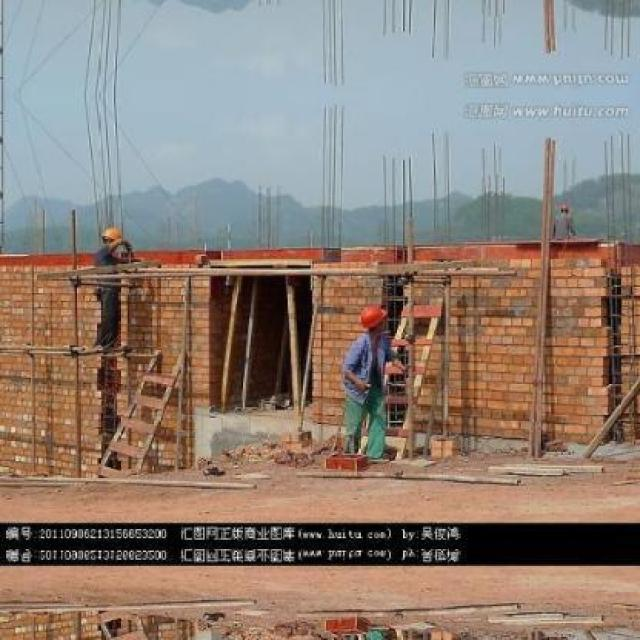helmet: (354, 304, 395, 333), (99, 220, 126, 250)
